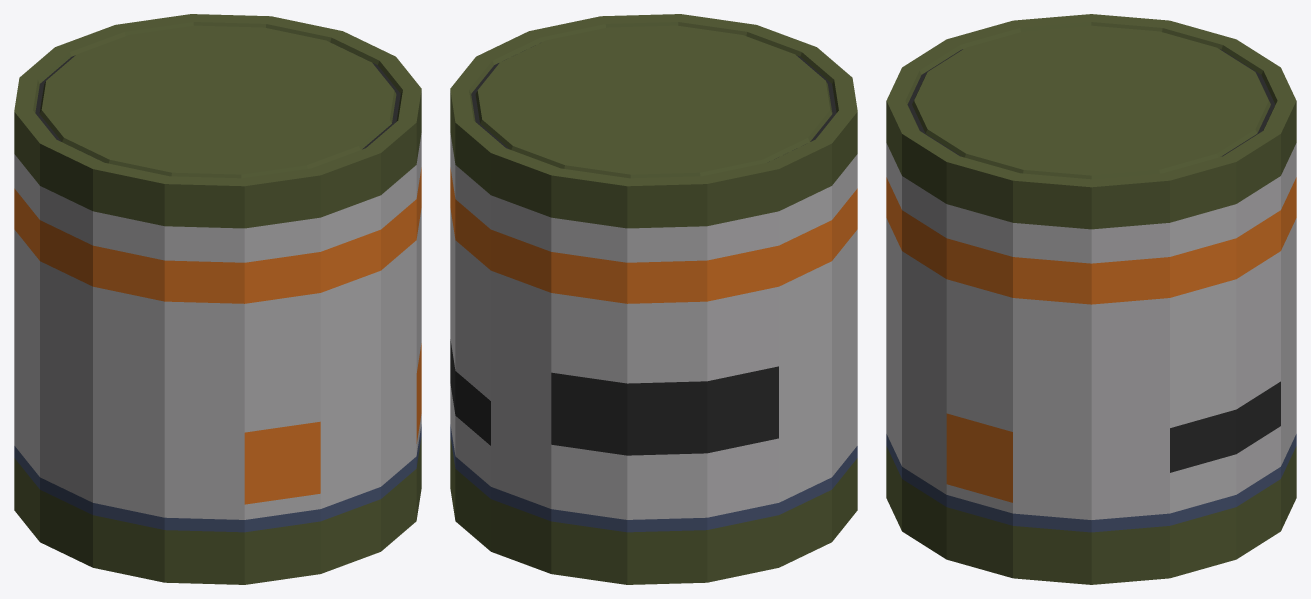
The model's file is SM_paint_bucket_1.gltf.
The picture shows the model from 3 angles, left to right: view 1: azimuth 30°, elevation 25°; view 2: azimuth 150°, elevation 25°; view 3: azimuth 270°, elevation 25°; orthographic projection.
Visible parts, largest first — view 1: SM_paint_bucket_1; view 2: SM_paint_bucket_1; view 3: SM_paint_bucket_1.
Part boxes in pixels (x1,y1,x2,y2): SM_paint_bucket_1: (14, 14, 421, 584); SM_paint_bucket_1: (450, 14, 857, 584); SM_paint_bucket_1: (886, 14, 1296, 584).
Size of the model in its own units: 0.4485 by 0.4799 by 0.4485.
1 material, 1 textured.
